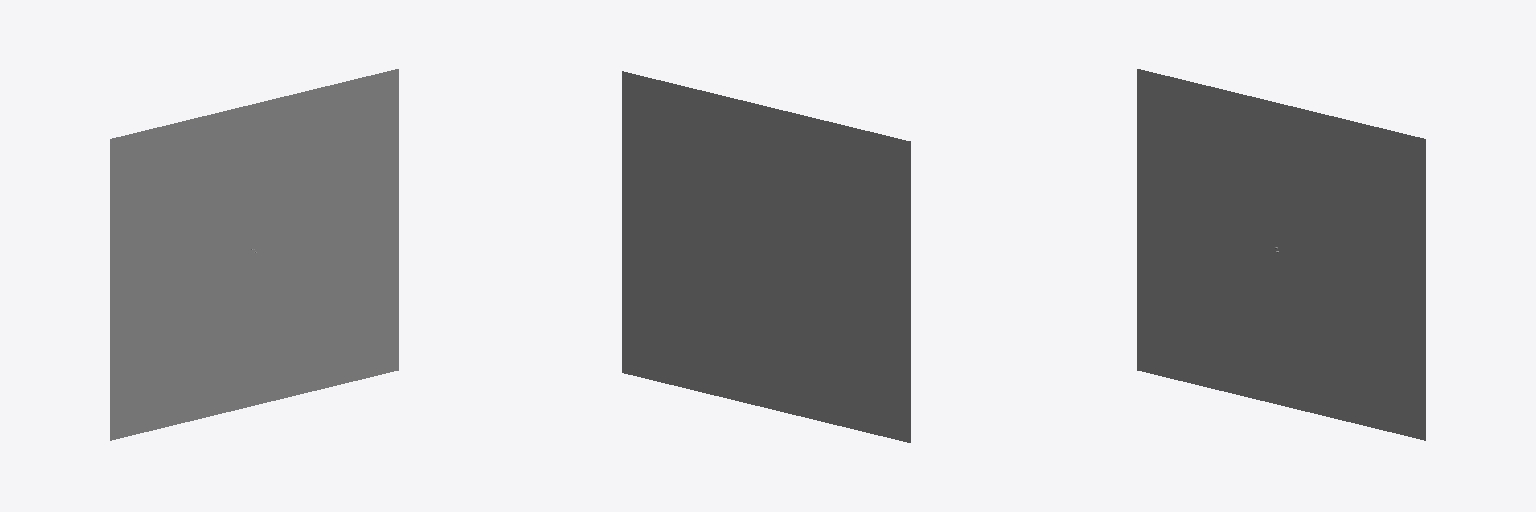
Rendered from low-poly-clouds.obj.
3 renders of one model, left to right at view 1: azimuth 30°, elevation 25°; view 2: azimuth 150°, elevation 25°; view 3: azimuth 330°, elevation 25°, orthographic.
Parts seen in each view (by area): view 1: Plane_Plane.003; view 2: Plane_Plane.003; view 3: Plane_Plane.003.
Boxes of the visible parts, x1,y1,x2,y2 form: Plane_Plane.003: [110, 69, 398, 440]; Plane_Plane.003: [622, 71, 910, 442]; Plane_Plane.003: [1137, 69, 1425, 440].
Bounding box in the file's own units: 308 × 308 × 6.21.